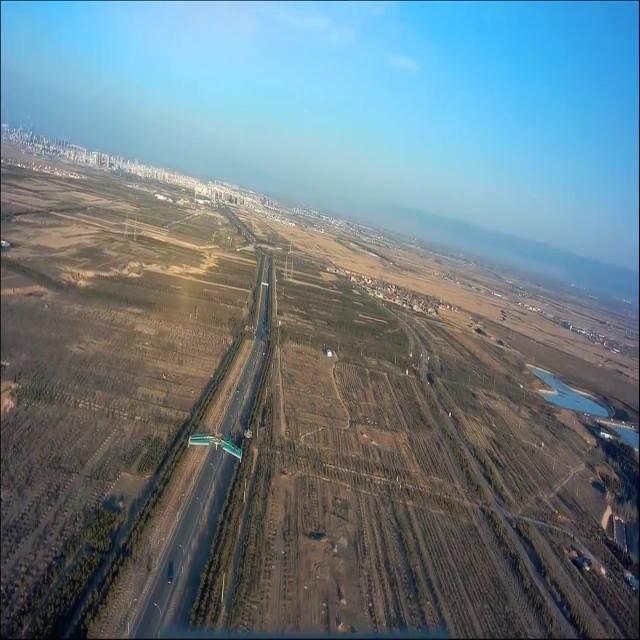iha: (187, 430, 243, 462)
